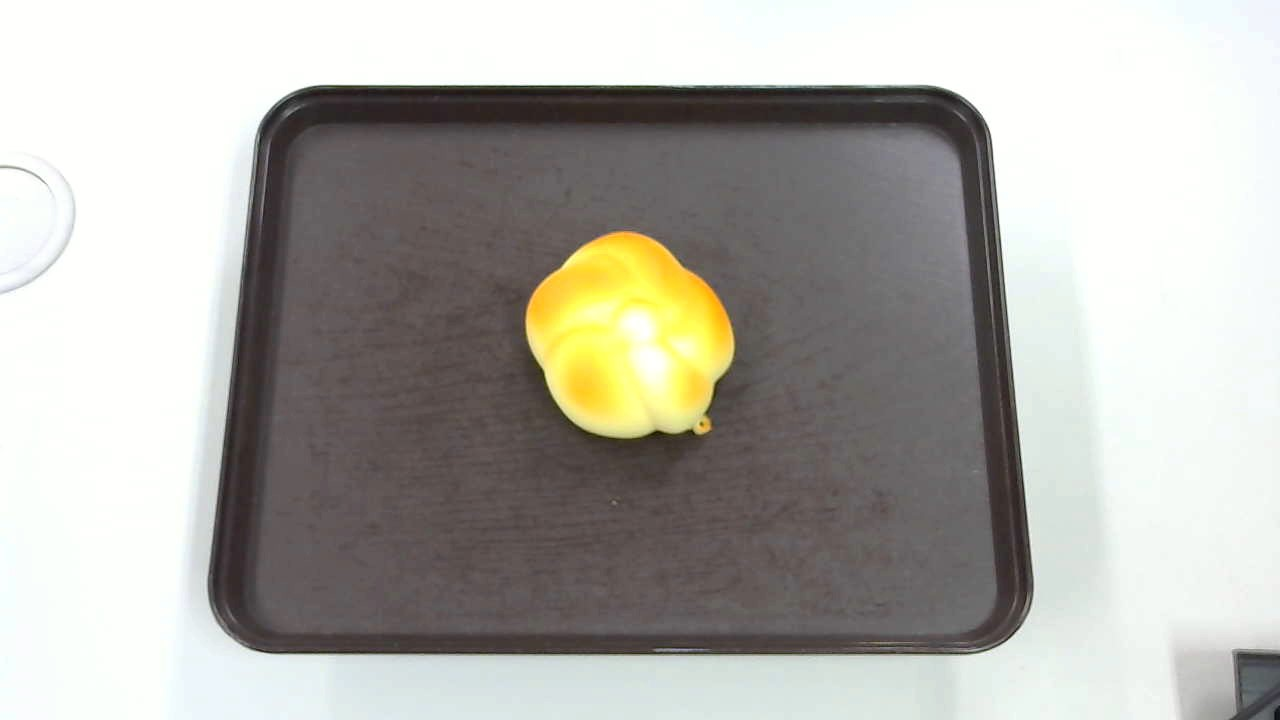twist bread: (526, 231, 734, 438)
